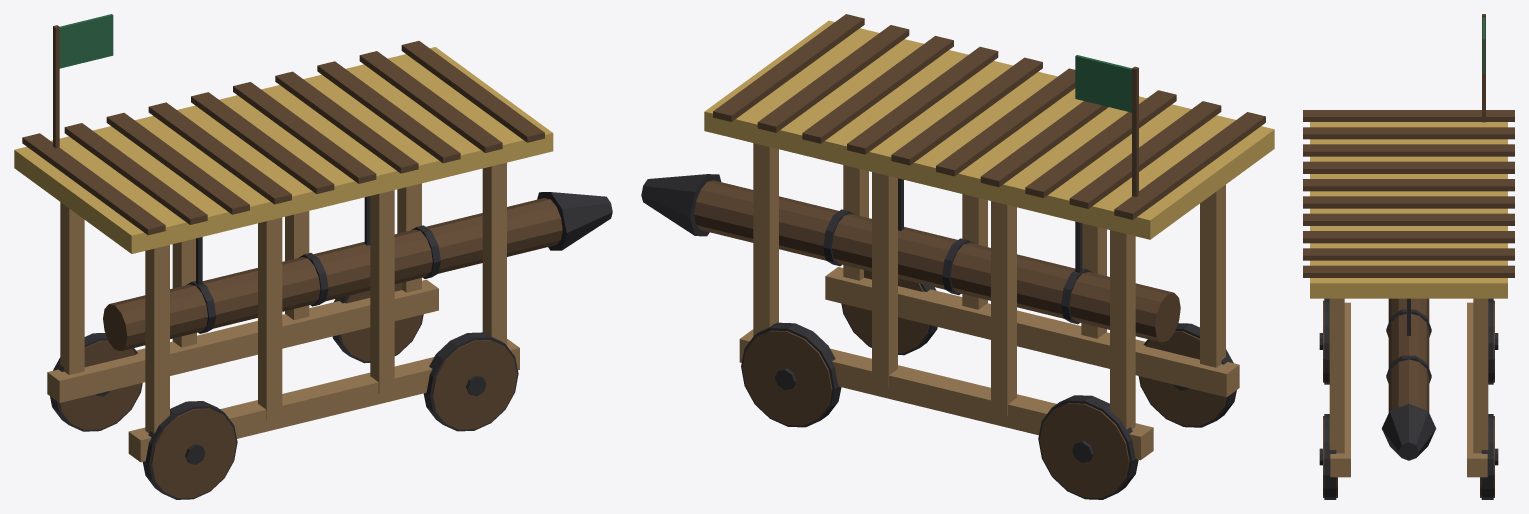
The model's file is taran_arab.glb.
3 renders of one model, left to right at view 1: azimuth 30°, elevation 25°; view 2: azimuth 150°, elevation 25°; view 3: azimuth 270°, elevation 25°, orthographic. The views are drawn at different scales.
Visible parts, largest first — view 1: Body, Log; view 2: Body, Log; view 3: Body, Log.
Boxes of the visible parts, box(x1,y1,x2,y2) form: Body: box(14, 14, 553, 499); Log: box(103, 192, 612, 350); Body: box(704, 14, 1274, 499); Log: box(641, 174, 1180, 342); Body: box(1303, 14, 1514, 499); Log: box(1381, 298, 1436, 460).
Size of the model in its own units: 7.6 by 5.63 by 3.1.
